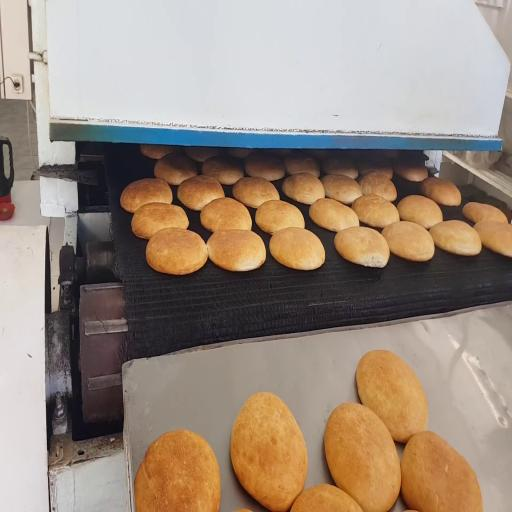bread: (231, 393, 307, 511), (324, 403, 400, 511), (134, 430, 220, 511), (356, 350, 427, 442), (402, 431, 482, 511), (146, 228, 207, 274), (207, 229, 266, 271), (270, 227, 325, 270), (335, 227, 389, 267), (131, 203, 189, 239), (382, 221, 434, 261), (291, 484, 362, 511), (430, 220, 481, 255), (200, 198, 251, 232), (121, 179, 172, 212), (177, 175, 224, 210), (256, 201, 304, 234), (309, 199, 358, 231), (352, 195, 399, 228), (397, 195, 442, 229), (233, 177, 279, 208), (154, 153, 197, 185), (474, 221, 511, 257), (282, 174, 325, 204), (321, 175, 362, 204), (202, 156, 243, 185), (421, 177, 461, 206), (245, 152, 285, 181), (359, 172, 397, 201), (463, 202, 508, 223), (285, 153, 319, 177), (323, 157, 358, 179), (394, 163, 428, 182), (358, 161, 392, 179), (140, 145, 179, 159), (185, 147, 220, 162), (308, 149, 337, 161), (228, 148, 254, 158), (269, 149, 292, 156)
